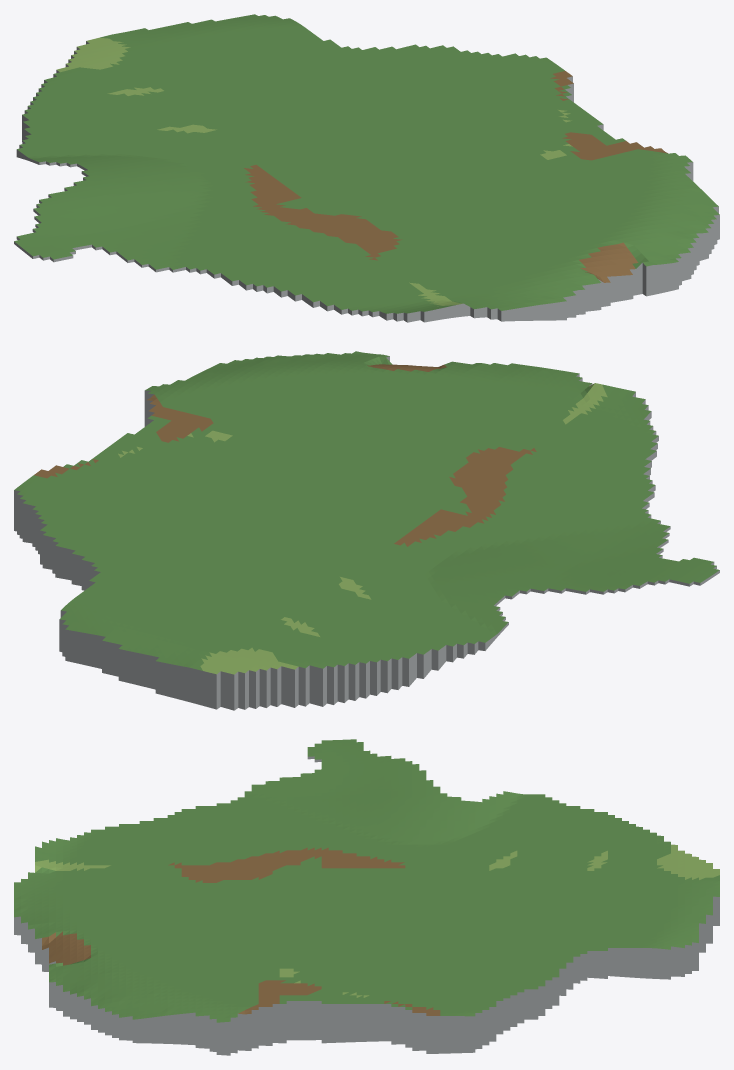
Rendered from neighborhood-pathways-terrain-3dfd16.glb.
3 renders of one model, top to bottom at view 1: azimuth 30°, elevation 25°; view 2: azimuth 150°, elevation 25°; view 3: azimuth 270°, elevation 25°, orthographic. The views are drawn at different scales.
Parts seen in each view (by area): view 1: neighborhood-ground; view 2: neighborhood-ground; view 3: neighborhood-ground.
Part boxes in pixels (x1,y1,x2,y2): neighborhood-ground: (14,14,719,322); neighborhood-ground: (14,351,719,710); neighborhood-ground: (14,739,719,1055).
Size of the model in its own units: 92 by 7.72 by 101.
